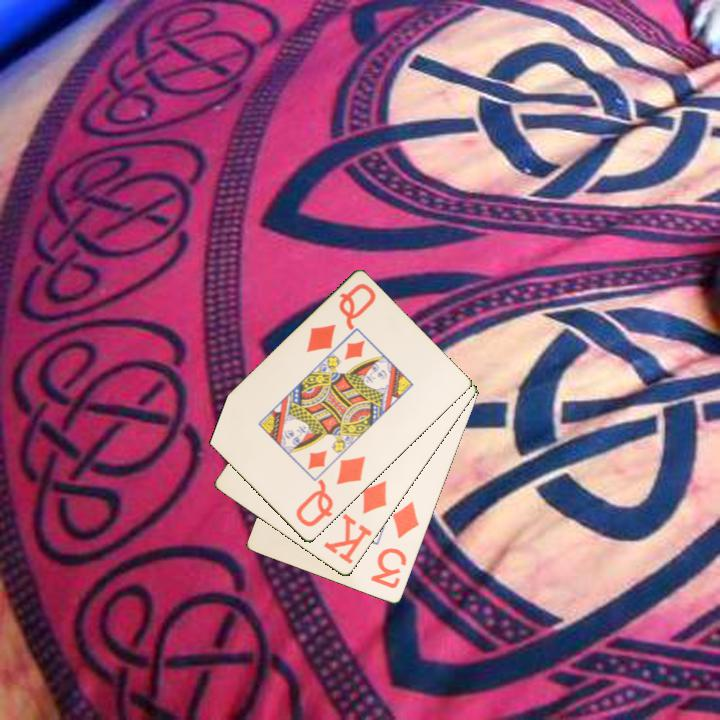3d: (367, 498, 422, 592)
Kd: (320, 477, 390, 568)
Qd: (292, 452, 368, 530), (302, 280, 379, 356)
